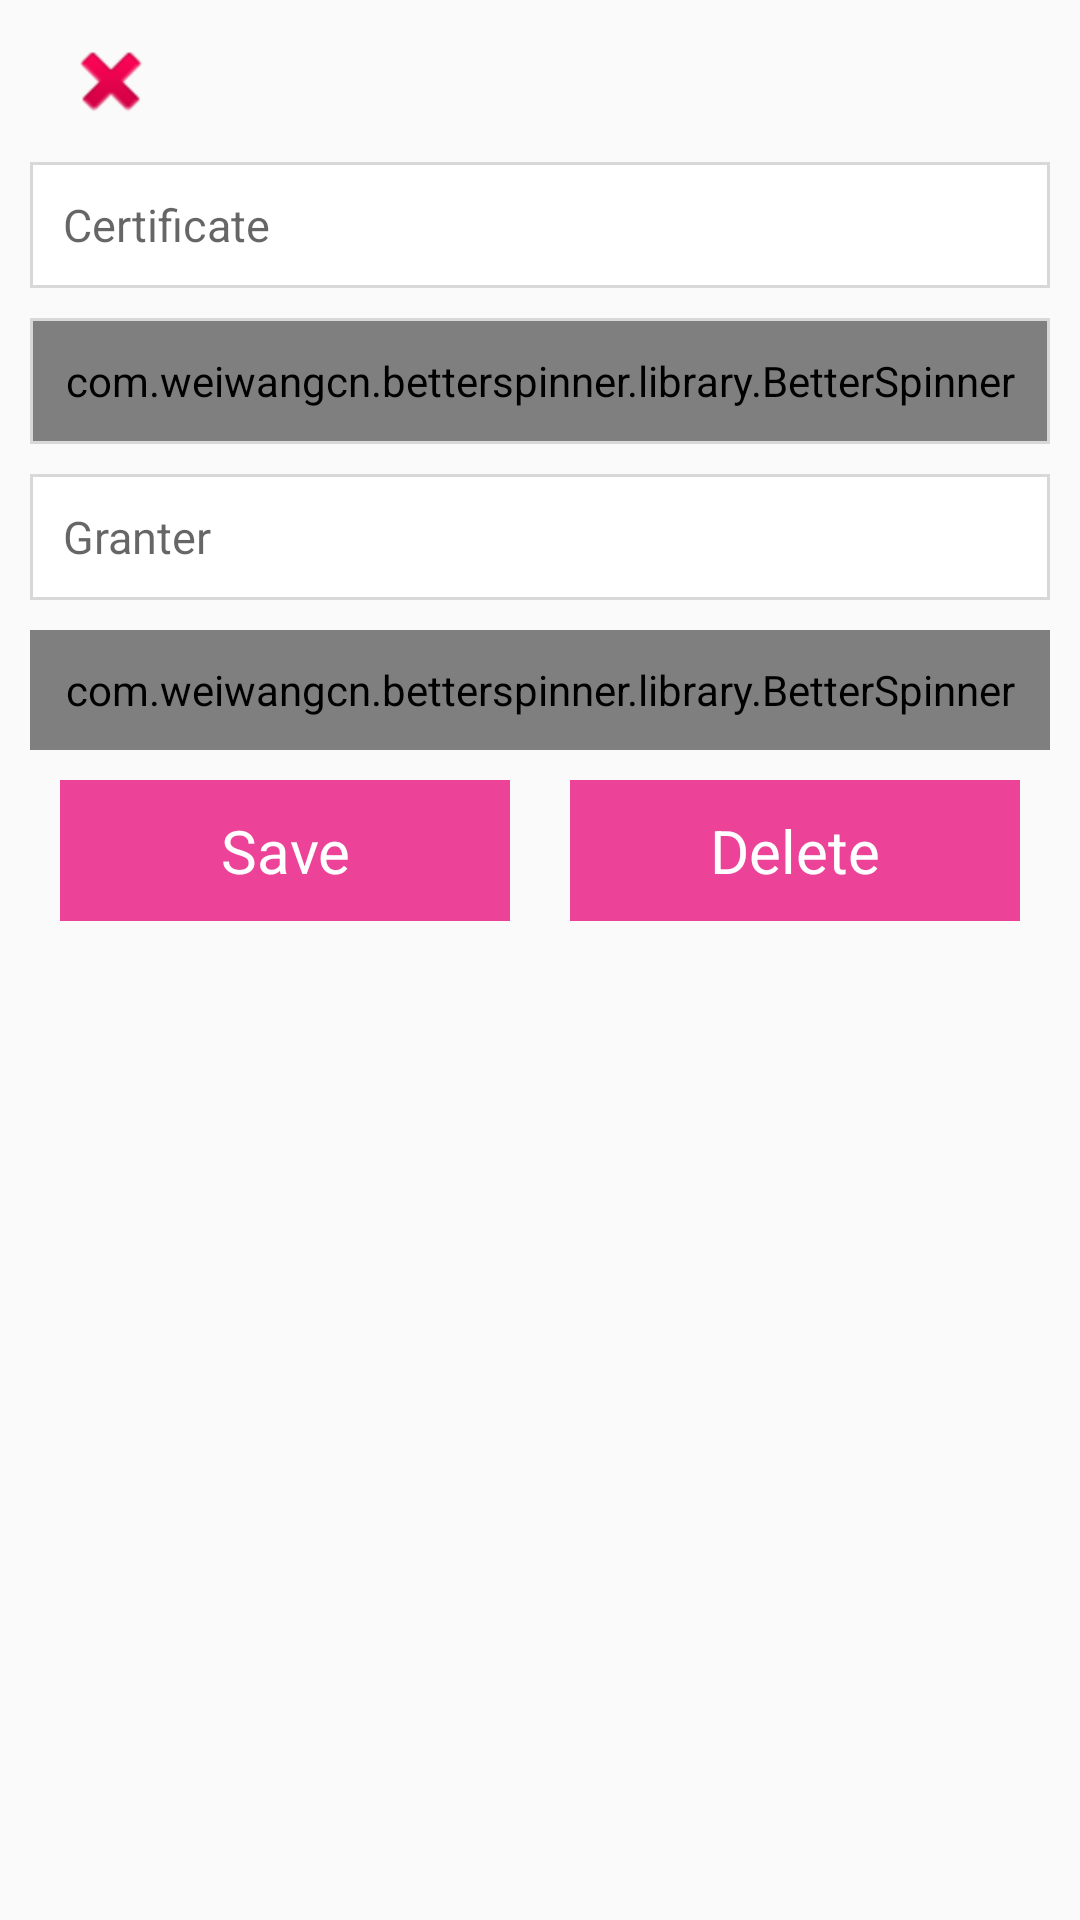

Named icons in this screenshot (1080×1920) and their centers, (x=x, y=y):
delete: (x=111, y=81)
